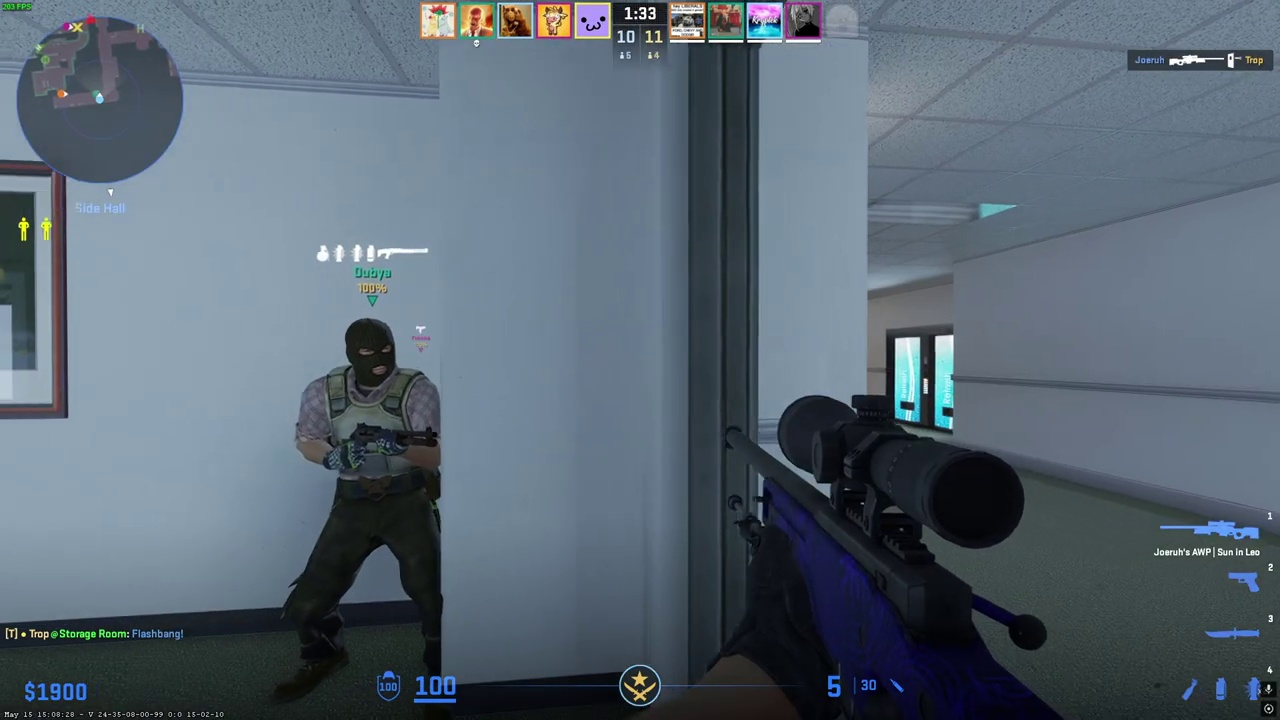Terrorist: (277, 316, 448, 709)
